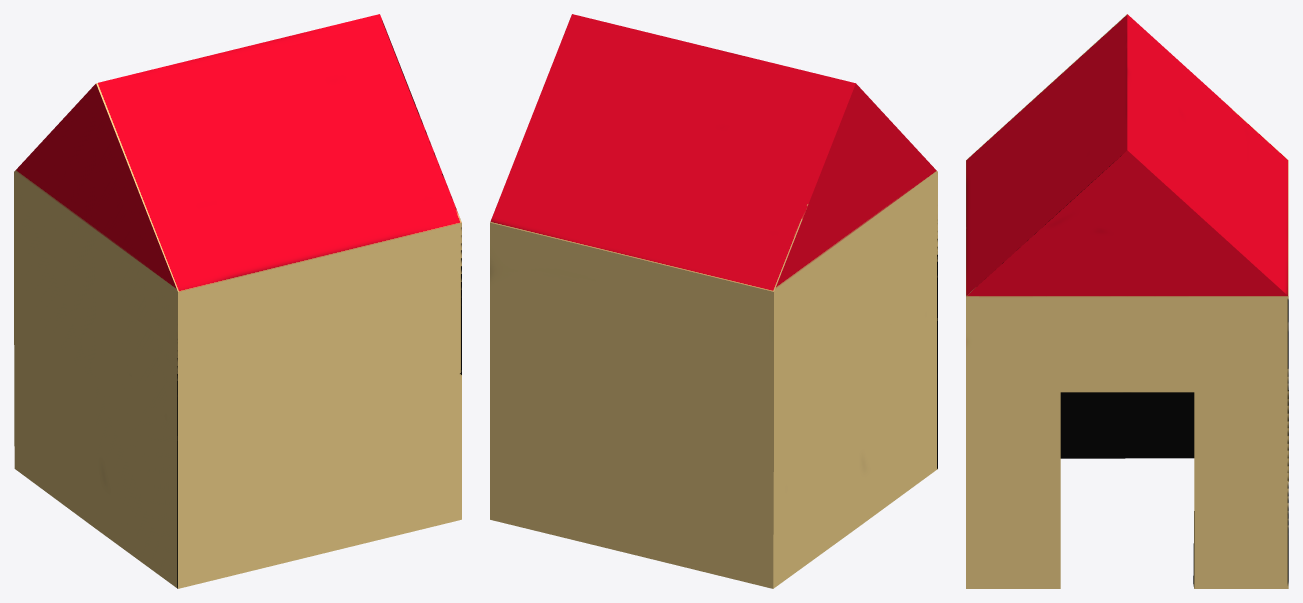
File: maison2.fbx
3 renders of one model, left to right at view 1: azimuth 30°, elevation 25°; view 2: azimuth 150°, elevation 25°; view 3: azimuth 270°, elevation 25°, orthographic.
Parts seen in each view (by area): view 1: Cube; view 2: Cube; view 3: Cube.
Part boxes in pixels (x1,y1,x2,y2): Cube: (14, 14, 461, 588); Cube: (490, 14, 937, 588); Cube: (966, 14, 1288, 588).
Bounding box in the file's own units: 2 × 3.01 × 2.
1 material, 1 textured.
